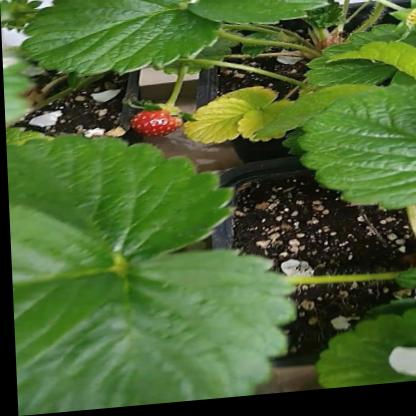ripe: (120, 109, 189, 142)
